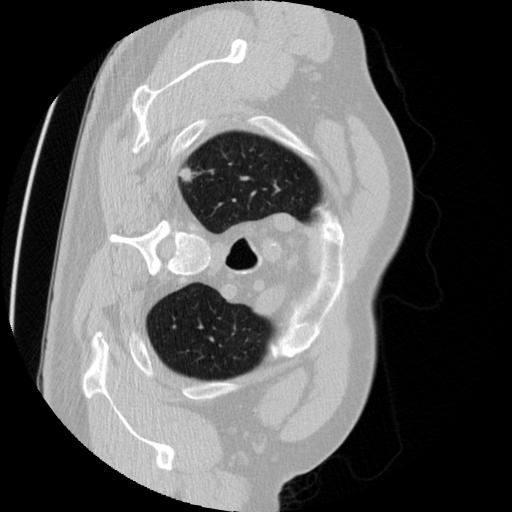nodule: (178, 163, 199, 184)
